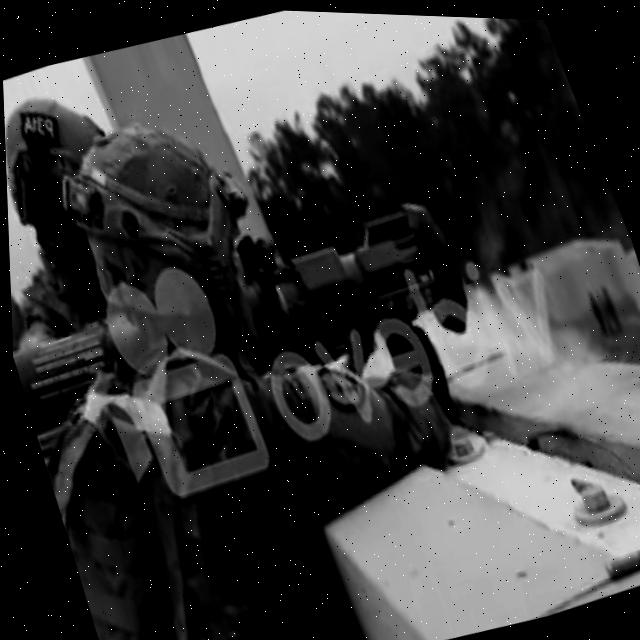rocket: (5, 173, 498, 481)
